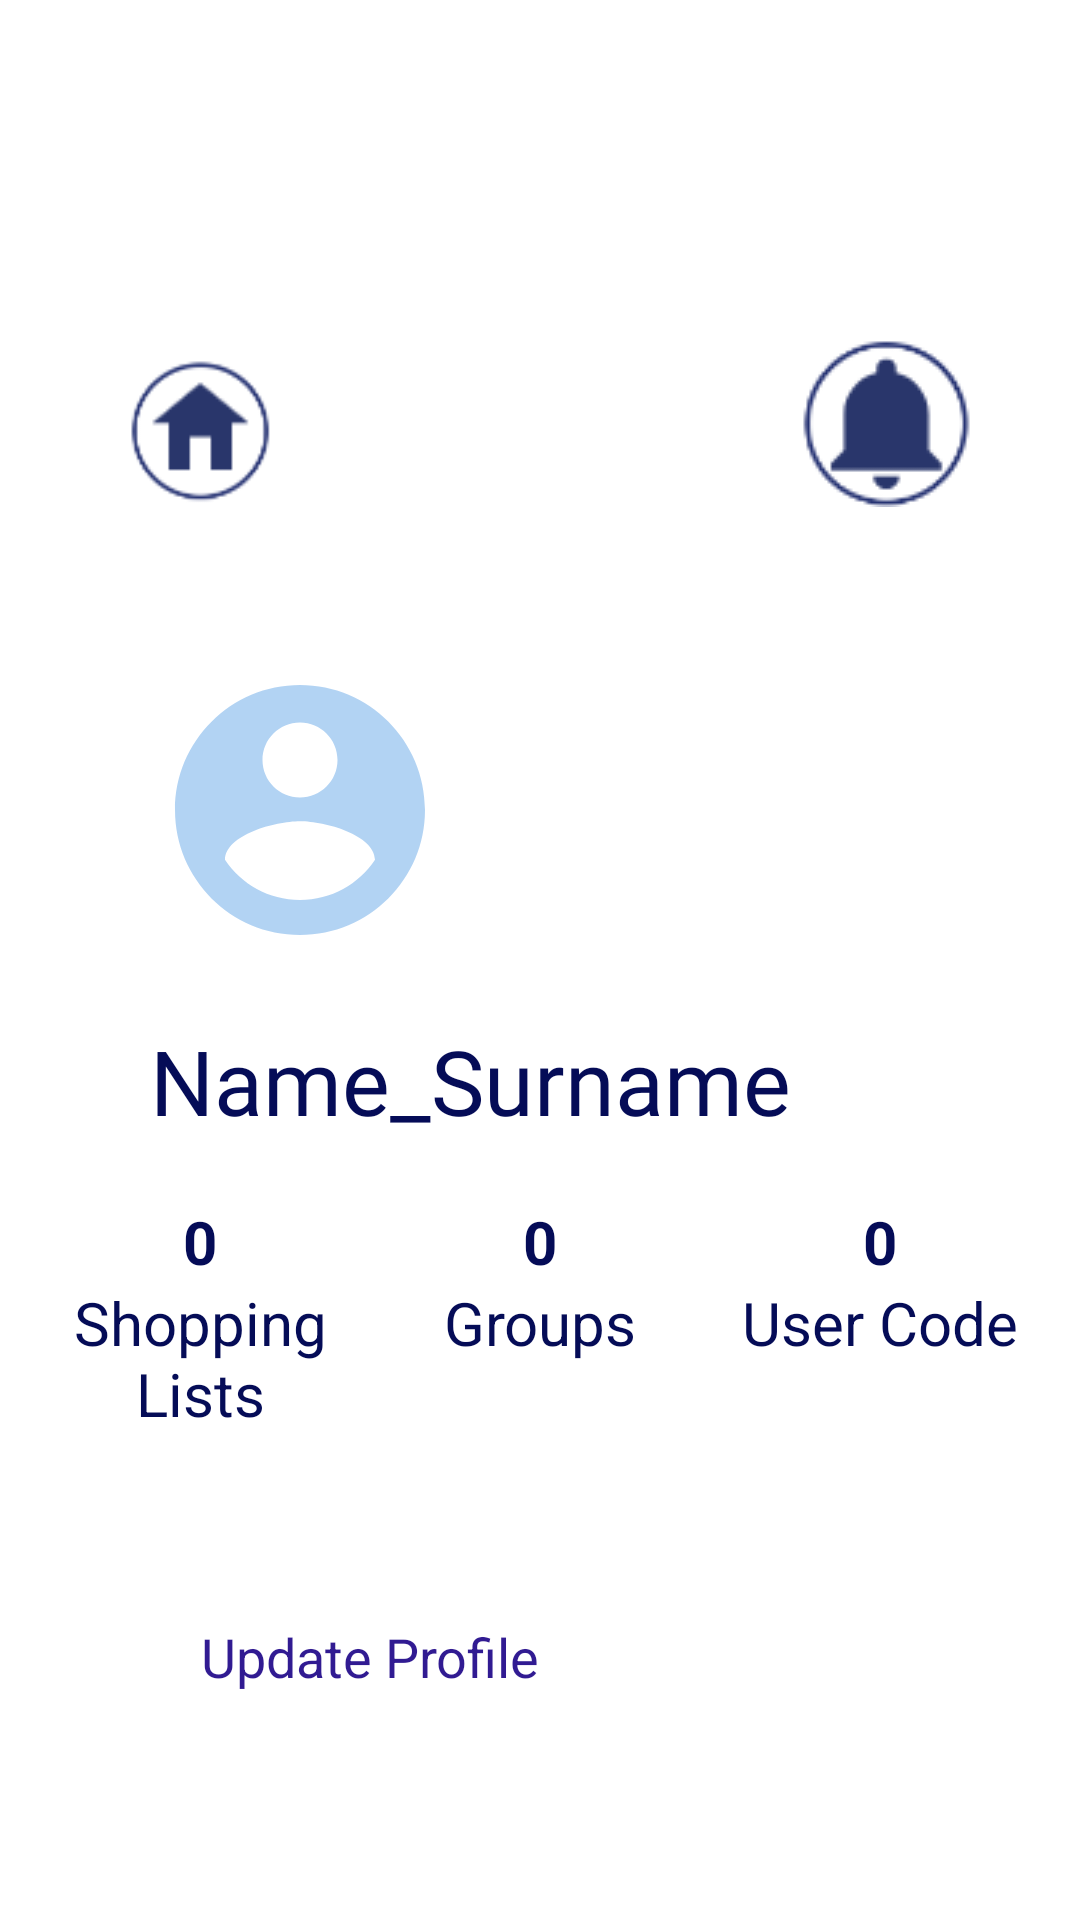

Where to tap for icons on this 1080 x 1920 app screen, as [x,y]:
Account circle icon: [300,810]
Home Button: [200,431]
Notification Icon: [886,424]
